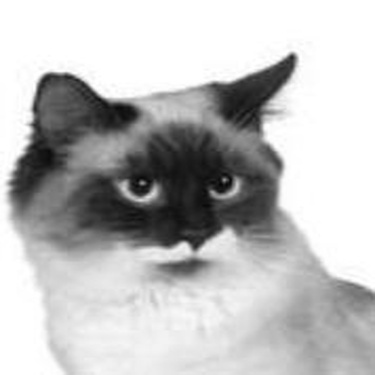cat: (7, 48, 369, 374)
